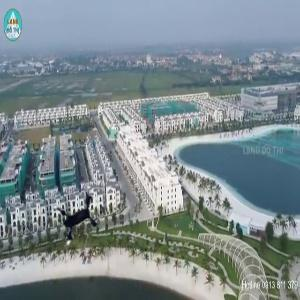drone: (36, 177, 112, 253)
